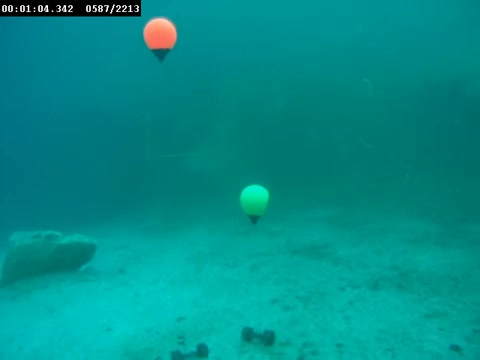buoy_green: (237, 179, 271, 229)
buoy_red: (143, 16, 178, 61)
